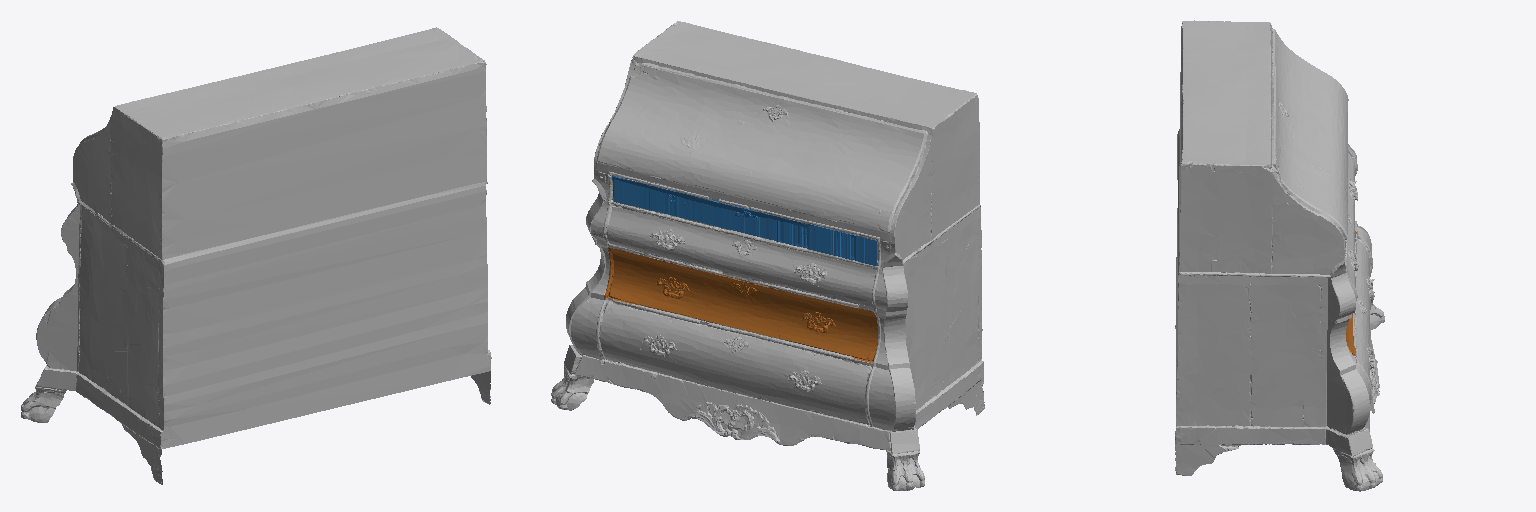
The robot description file, URDF, robot "articulated_object":
<?xml version="1.0" ?>
<robot name="articulated_object">
  <link name="base">
    <visual>
      <origin xyz="0 0 0" rpy="0 0 0"/>
      <geometry>
        <mesh filename="base.stl"/>
      </geometry>
      <material name="base_material">
        <color rgba="0.75 0.75 0.75 1.0"/>
      </material>
    </visual>
  </link>
  <link name="door_0">
    <visual>
      <origin xyz="0 0 0" rpy="0 0 0"/>
      <geometry>
        <mesh filename="door_0.stl"/>
      </geometry>
      <material name="child_material_0">
        <color rgba="0.72 0.45 0.20 1.0"/>
      </material>
    </visual>
  </link>
  <joint name="joint_0" type="prismatic">
    <parent link="base"/>
    <child link="door_0"/>
    <origin xyz="-4.81113793 -1.09300743 5.83019529" rpy="0 0 0"/>
    <axis xyz="0.00000000 1.00000000 0.00000000"/>
    <limit lower="0.0" upper="7.229" effort="100.0" velocity="1.0"/>
  </joint>
  <link name="door_1">
    <visual>
      <origin xyz="0 0 0" rpy="0 0 0"/>
      <geometry>
        <mesh filename="door_1.stl"/>
      </geometry>
      <material name="child_material_1">
        <color rgba="0.25 0.55 0.80 1.0"/>
      </material>
    </visual>
  </link>
  <joint name="joint_1" type="revolute">
    <parent link="base"/>
    <child link="door_1"/>
    <origin xyz="-4.77848371 2.38260326 7.44879069" rpy="0 0 0"/>
    <axis xyz="0.00000000 0.00000000 1.00000000"/>
    <limit lower="0.0" upper="0.12616985162667008" effort="100.0" velocity="1.0"/>
  </joint>
</robot>

--- What the picture shows (computed from the rendered views, not written in the file) ---
The picture shows the robot from 3 angles, left to right: view 1: azimuth 30°, elevation 25°; view 2: azimuth 150°, elevation 25°; view 3: azimuth 270°, elevation 25°; orthographic projection.
Robot: articulated_object — 3 links, 2 joints (1 revolute, 1 prismatic); root link base; default pose: all joints at 0.
Links seen in each view (by area): view 1: base; view 2: base, door_0, door_1; view 3: base.
Link boxes in pixels (left/top/right/bottom): base: left=21, top=27, right=491, bottom=484; base: left=551, top=21, right=984, bottom=490; door_0: left=604, top=248, right=877, bottom=362; door_1: left=612, top=176, right=877, bottom=265; base: left=1175, top=20, right=1384, bottom=491.
Size in the robot's own frame: 14.27 by 7.09 by 11.66 metres.
3 mesh visuals loaded from 3 distinct referenced files (3 binary STL).
